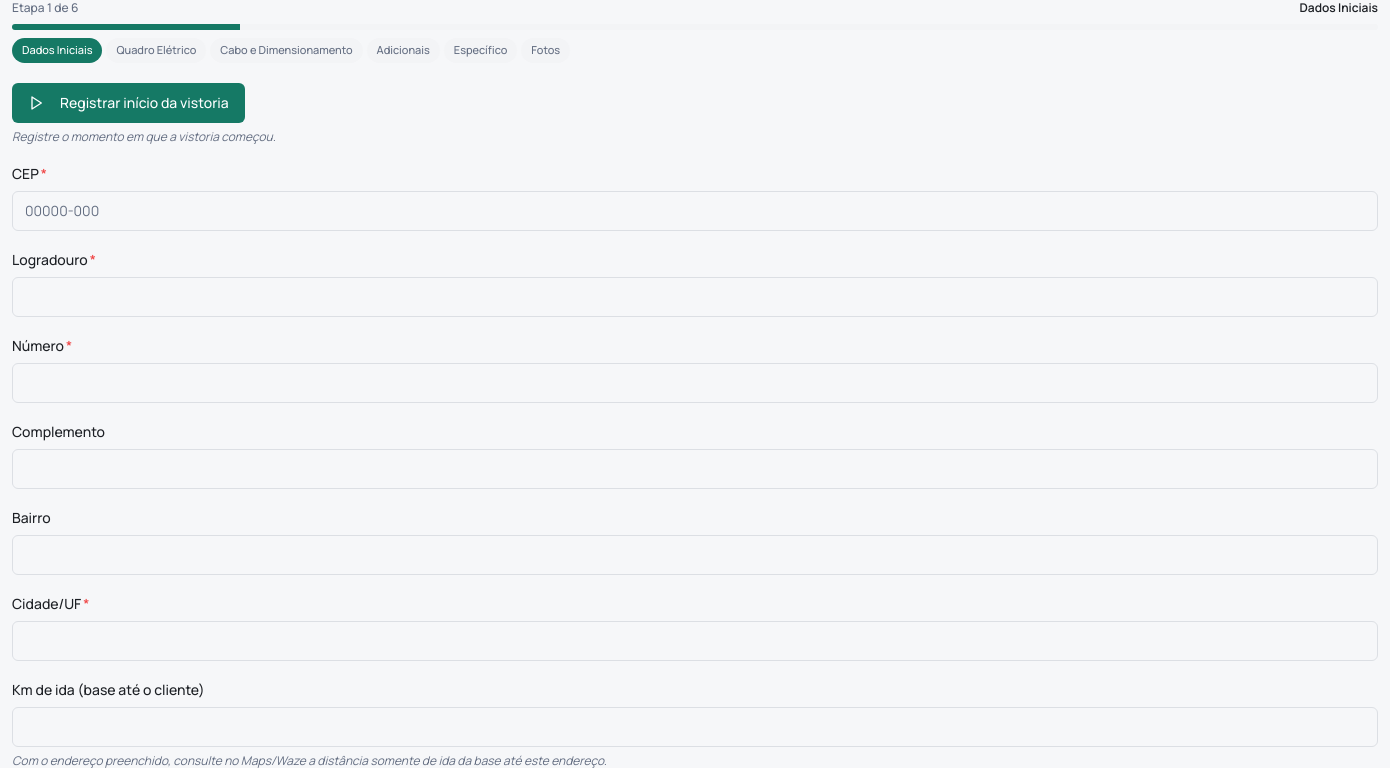
Test case: Checklist guiado — Vistoria EV › calcula especificação e metragem de cabos na etapa de dimensionamento
Click the button "Cabo e Dimensionamento": click(286, 50) 210,38 -> 363,62
(page scrolled)
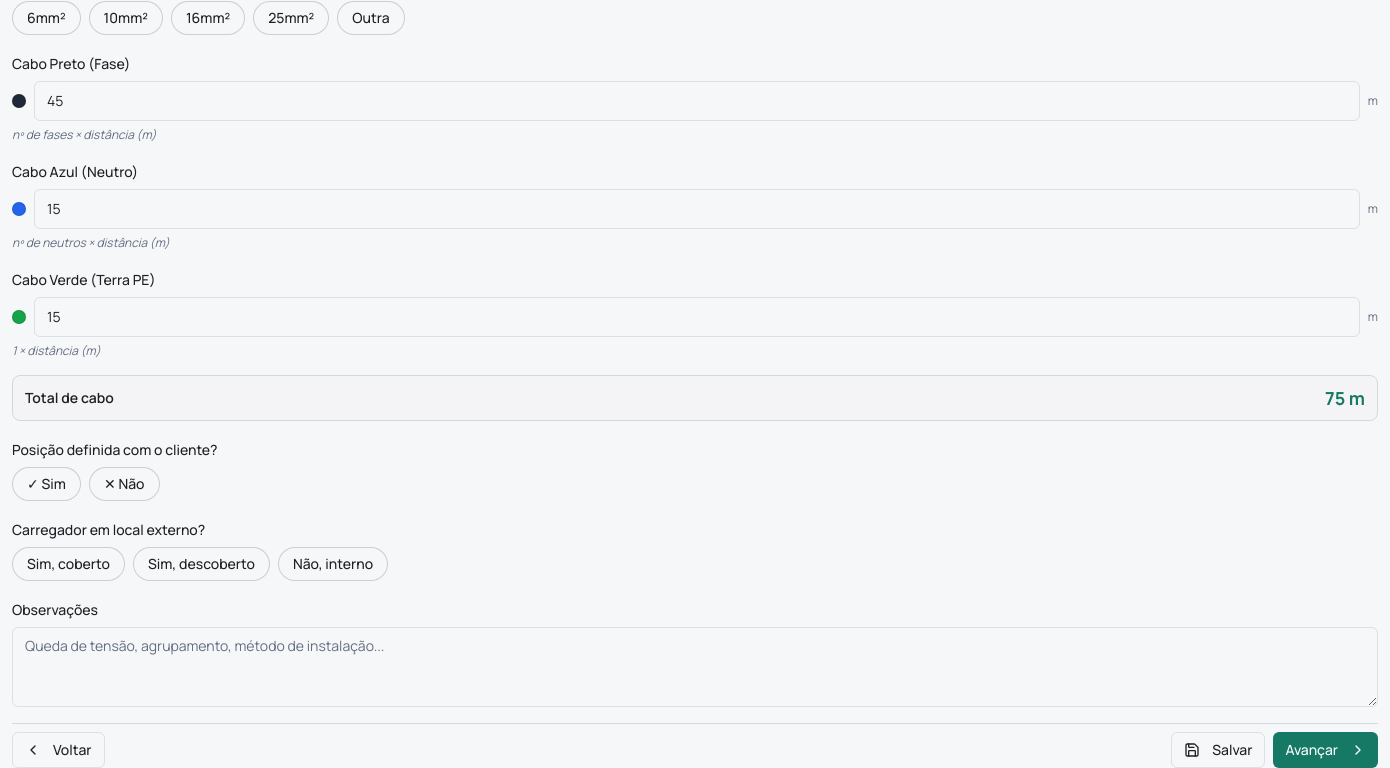
Expected: the number field showing "45" is shown, 34,80 -> 1360,120
Expected: the text "75 m" is shown, 1325,384 -> 1365,412
